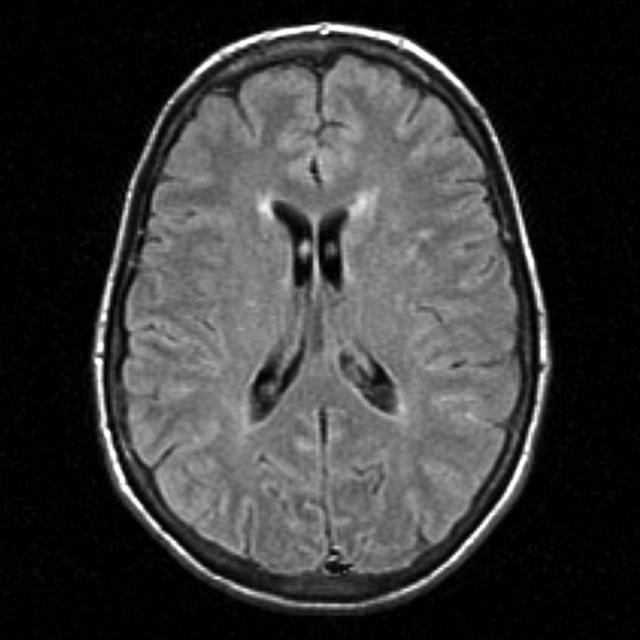notumor: (91, 22, 552, 622)
